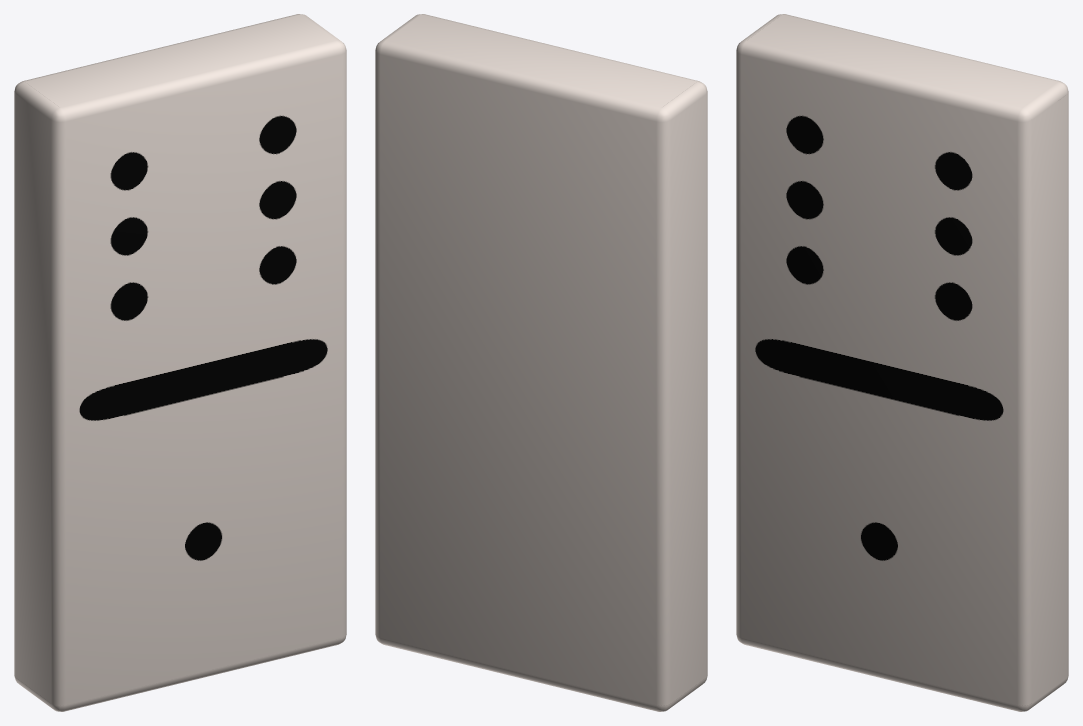
Rendered from Domino Piece.glb.
3 renders of one model, left to right at view 1: azimuth 30°, elevation 25°; view 2: azimuth 150°, elevation 25°; view 3: azimuth 330°, elevation 25°, orthographic.
Parts seen in each view (by area): view 1: Object_2; view 2: Object_2; view 3: Object_2.
Part boxes in pixels (x1=…): Object_2: x1=14, y1=14, x2=346, y2=711; Object_2: x1=375, y1=14, x2=707, y2=711; Object_2: x1=736, y1=14, x2=1068, y2=711.
Size of the model in its own units: 0.0255 by 0.05 by 0.00695.
Materials: 1 (1 with a texture image).
